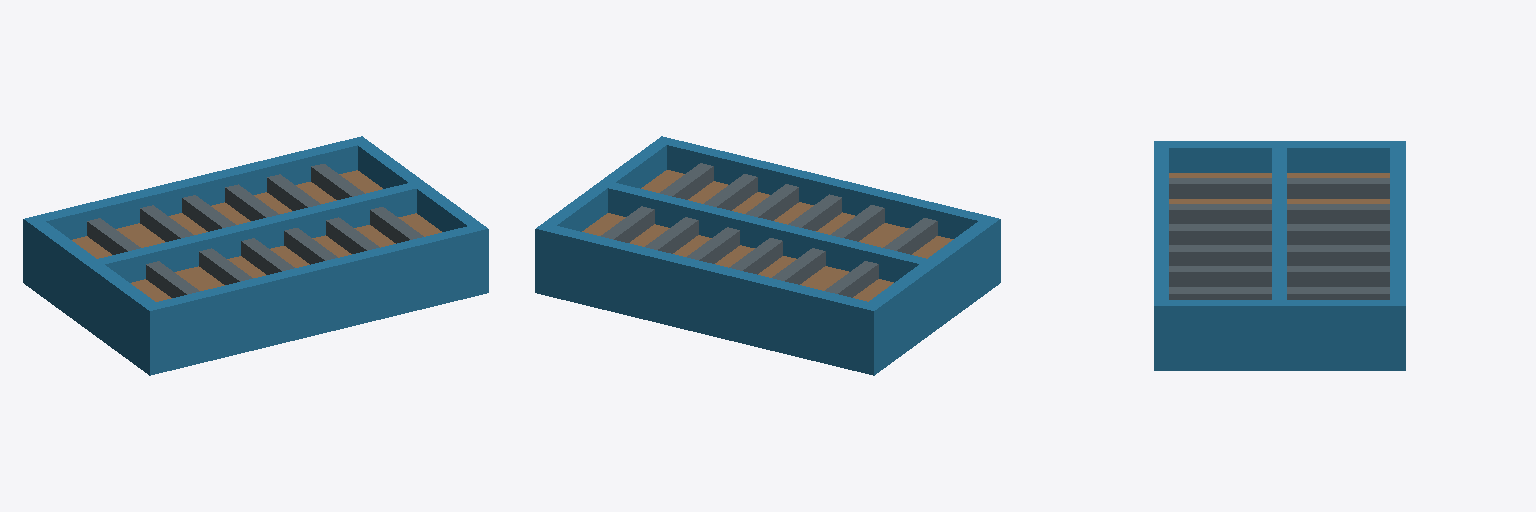
The model's file is hydrolytic_acidizing_tank.obj.
3 renders of one model, left to right at view 1: azimuth 30°, elevation 25°; view 2: azimuth 150°, elevation 25°; view 3: azimuth 270°, elevation 25°, orthographic.
Visible parts, largest first — view 1: ___, ___.2, ___.1; view 2: ___, ___.2, ___.1; view 3: ___, ___.2, ___.1.
Boxes of the visible parts, x1=… form: ___: x1=23, y1=136, x2=488, y2=375; ___.2: x1=87, y1=164, x2=423, y2=297; ___.1: x1=72, y1=170, x2=441, y2=301; ___: x1=535, y1=136, x2=1000, y2=375; ___.2: x1=601, y1=163, x2=937, y2=297; ___.1: x1=582, y1=170, x2=953, y2=301; ___: x1=1154, y1=141, x2=1405, y2=370; ___.2: x1=1169, y1=178, x2=1389, y2=299; ___.1: x1=1169, y1=173, x2=1389, y2=203.
Size of the model in its own units: 4118 by 749 by 2661.